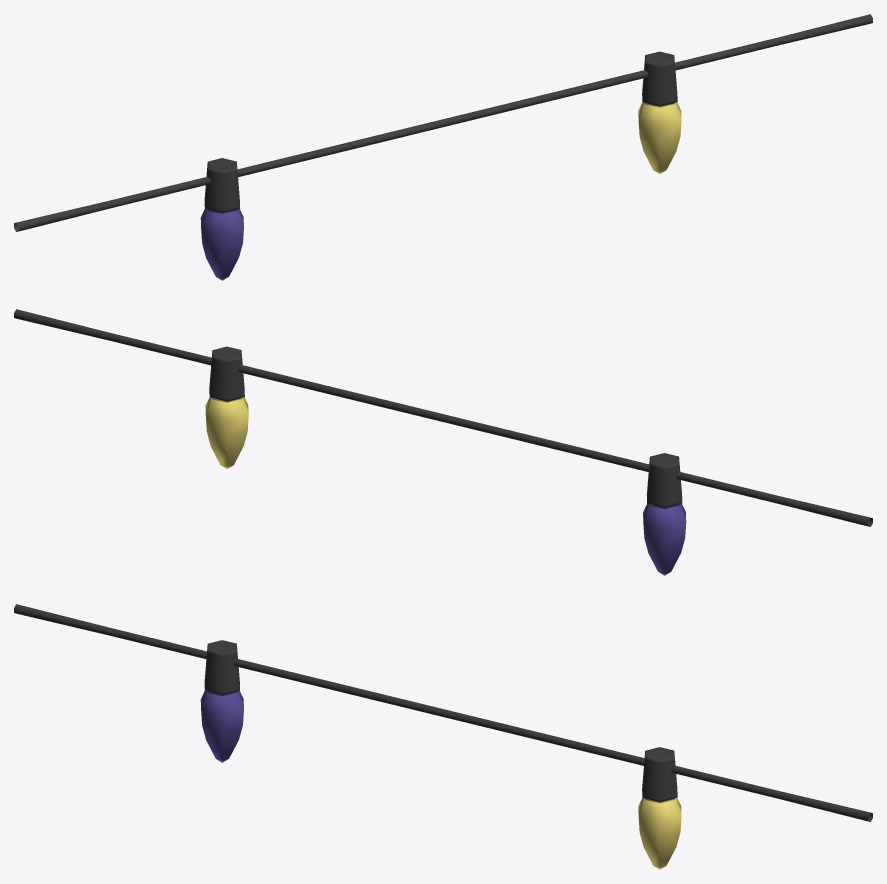
Rendered from SM_Hanging_Lights_var1.FBX.
3 renders of one model, top to bottom at view 1: azimuth 30°, elevation 25°; view 2: azimuth 150°, elevation 25°; view 3: azimuth 330°, elevation 25°, orthographic.
Visible parts, largest first — view 1: SM_Hanging_Lights_var1_LOD0; view 2: SM_Hanging_Lights_var1_LOD0; view 3: SM_Hanging_Lights_var1_LOD0.
Part boxes in pixels (bbox=[...]): SM_Hanging_Lights_var1_LOD0: bbox=[14, 14, 872, 280]; SM_Hanging_Lights_var1_LOD0: bbox=[14, 309, 872, 575]; SM_Hanging_Lights_var1_LOD0: bbox=[14, 604, 872, 869].
Size of the model in its own units: 198 by 8.7 by 25.71.
